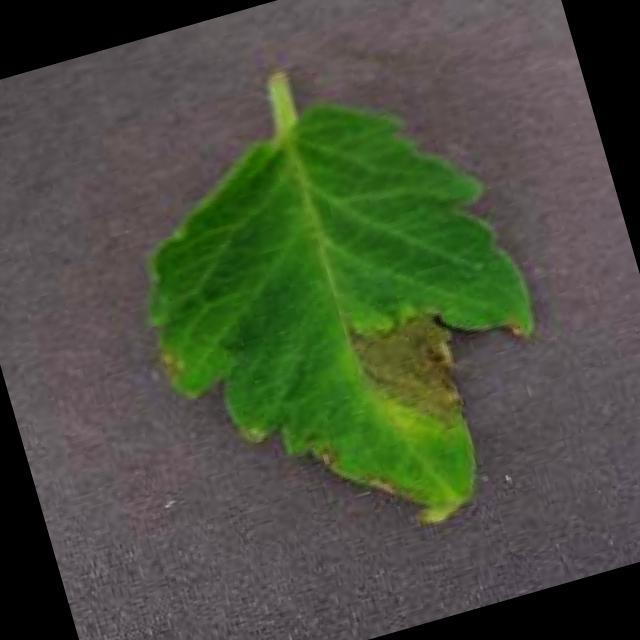Tomato late blight leaf: (111, 65, 585, 583)
